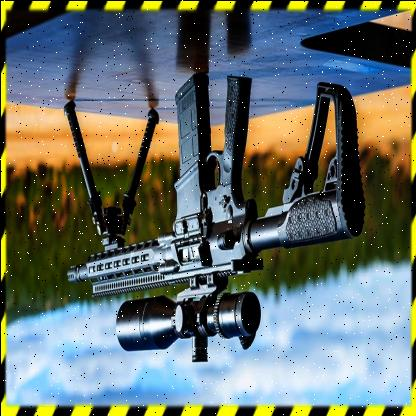rifle: (50, 74, 366, 358)
